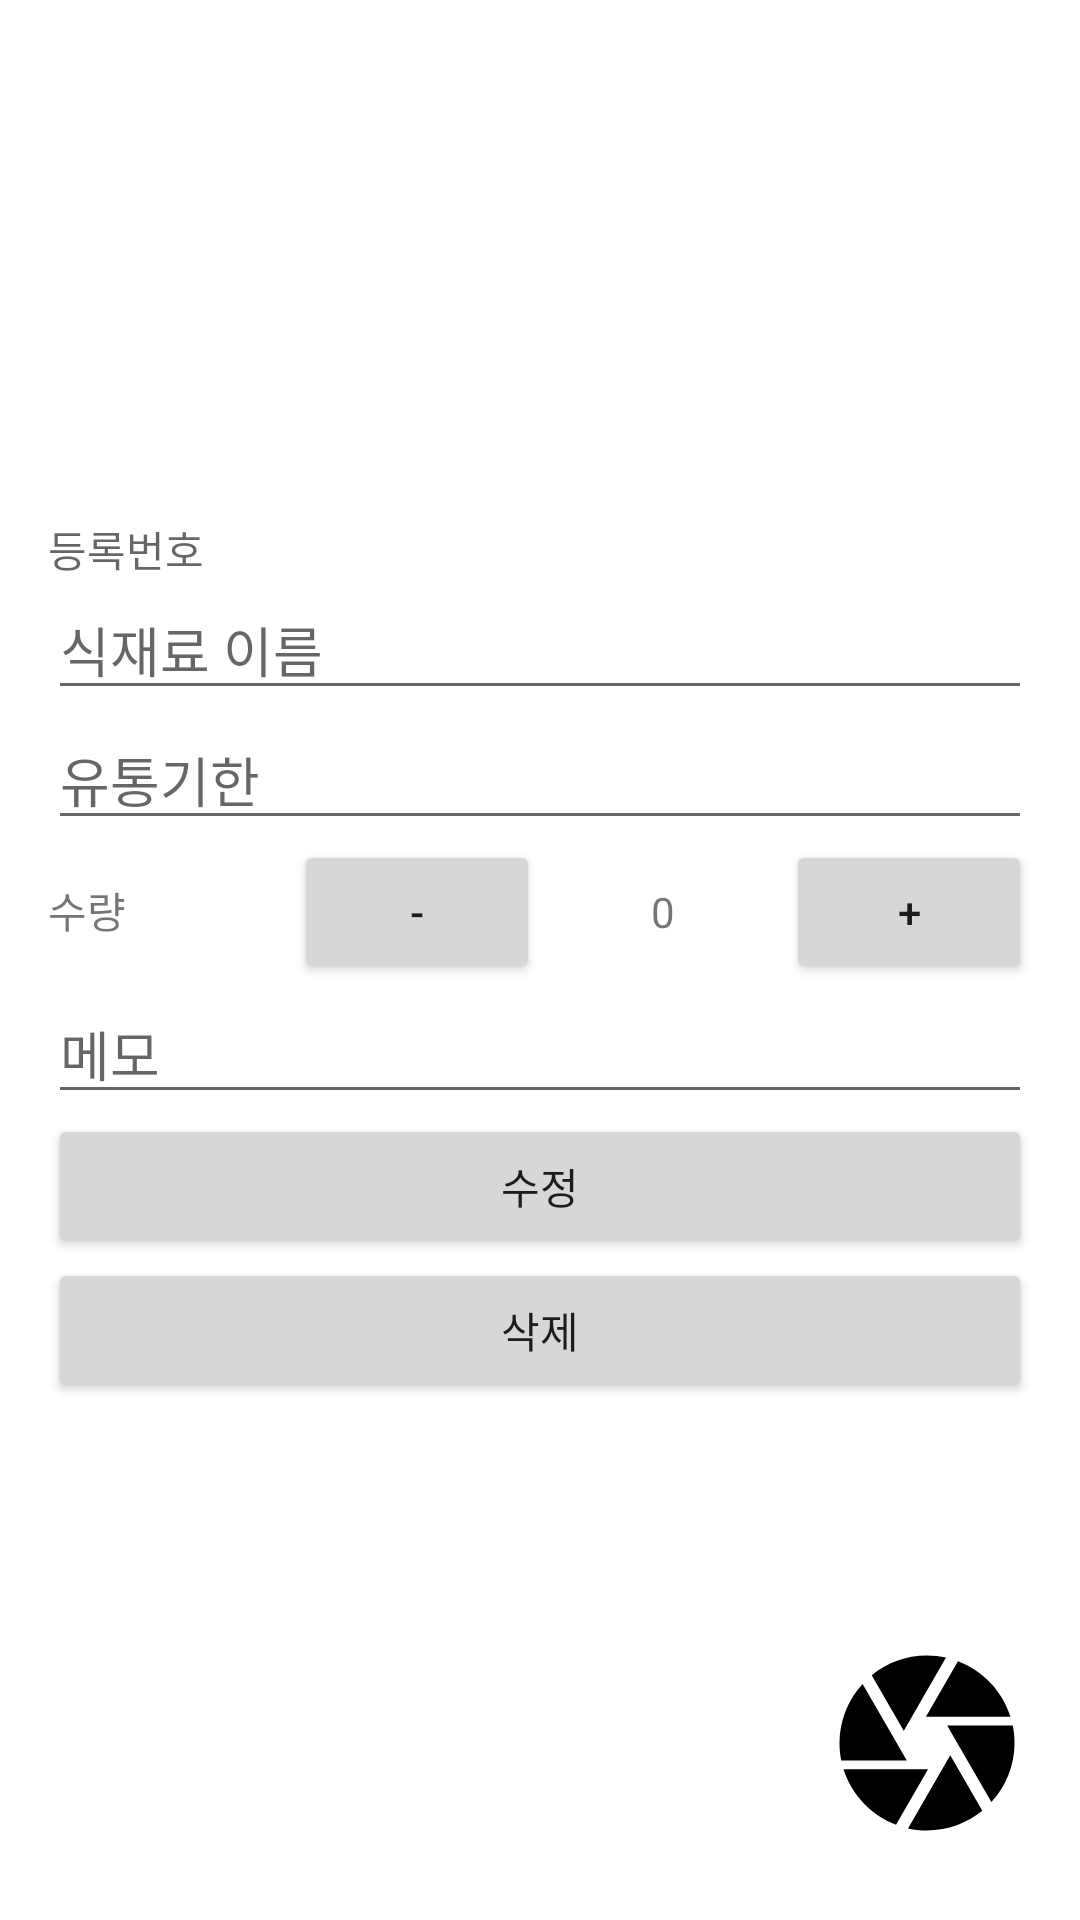

Icon bounding boxes for this 1080*1920 phone screenshot, format BBox(x1, y1, x2, y2):
camera: BBox(839, 1655, 1015, 1831)
